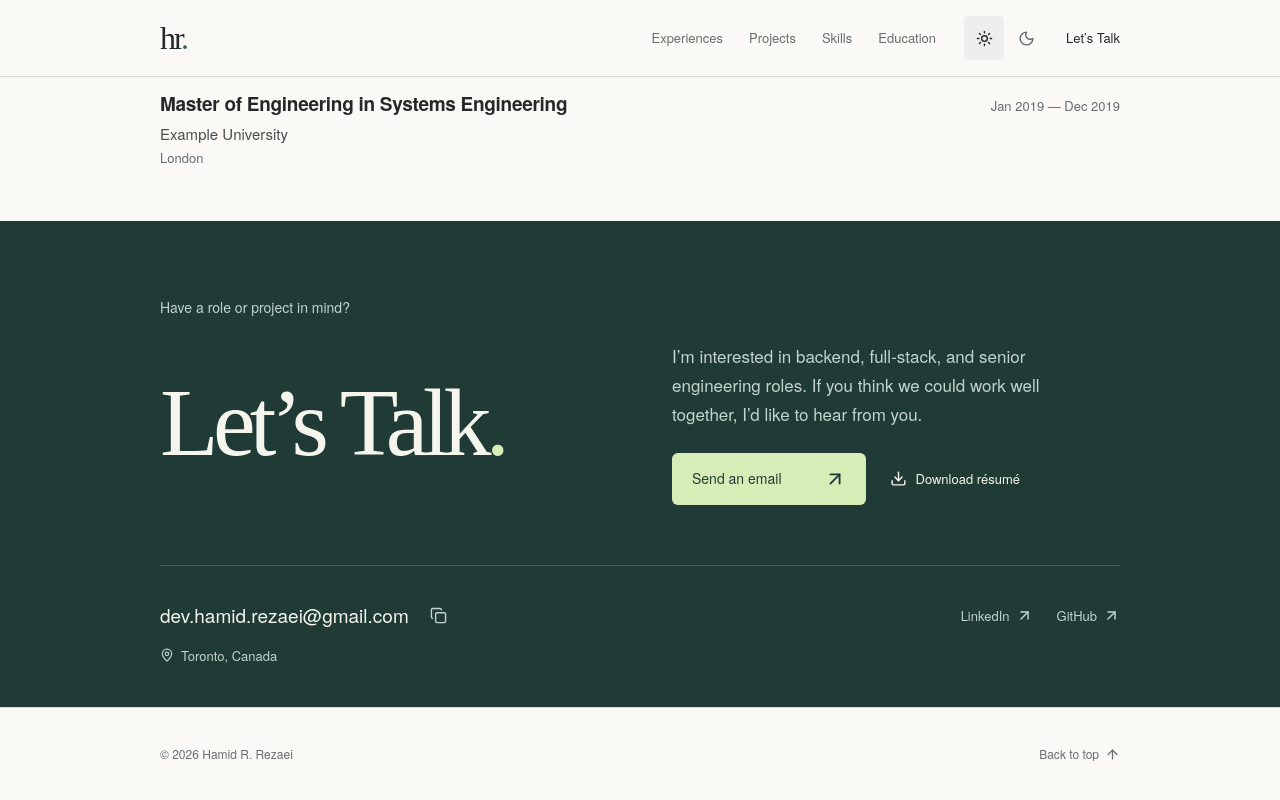
it: resume sections › keeps contact usable when clipboard access is denied
The width and height of the screenshot is (1280, 800).
(page scrolled)
Click the button named "Copy email address".
click(439, 616)  # box [419,594,459,638]
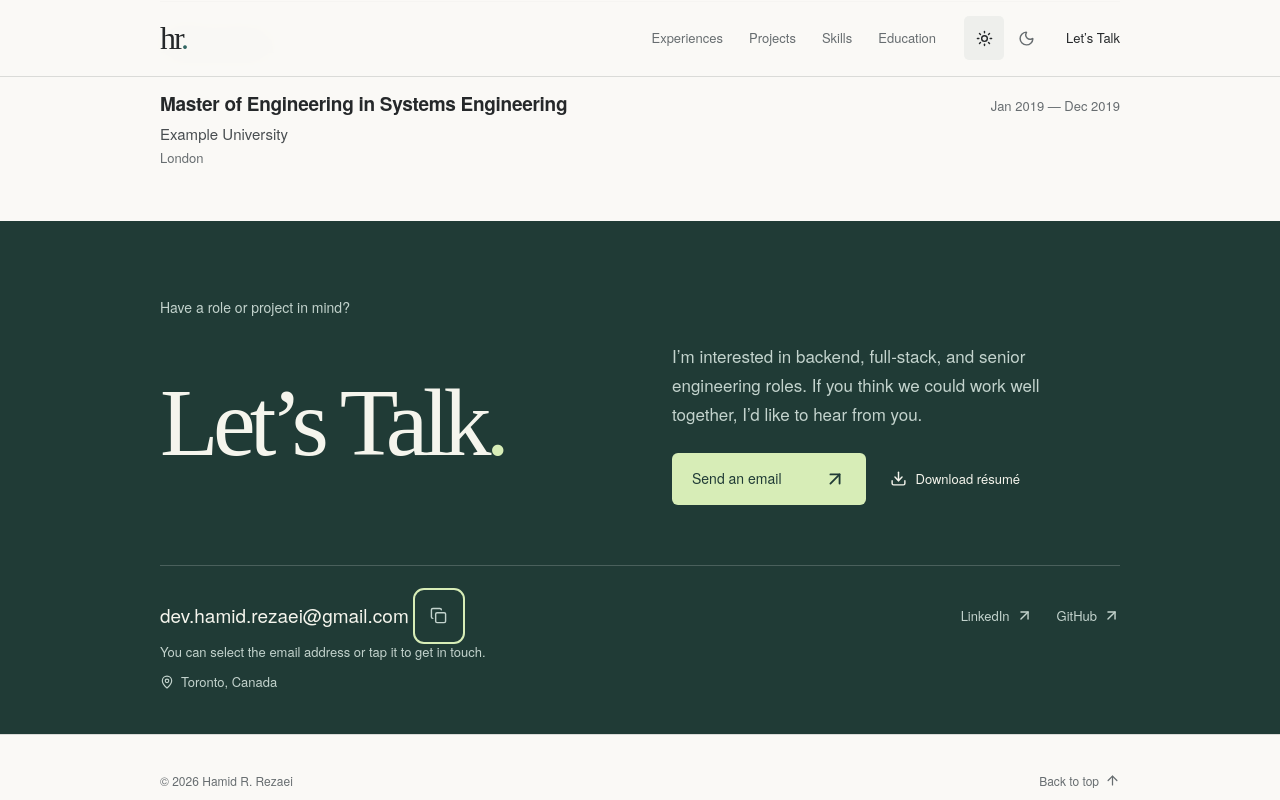
expect the message reads "You can select the email address or tap it to get in touch.": met, box [160,642,486,661]
